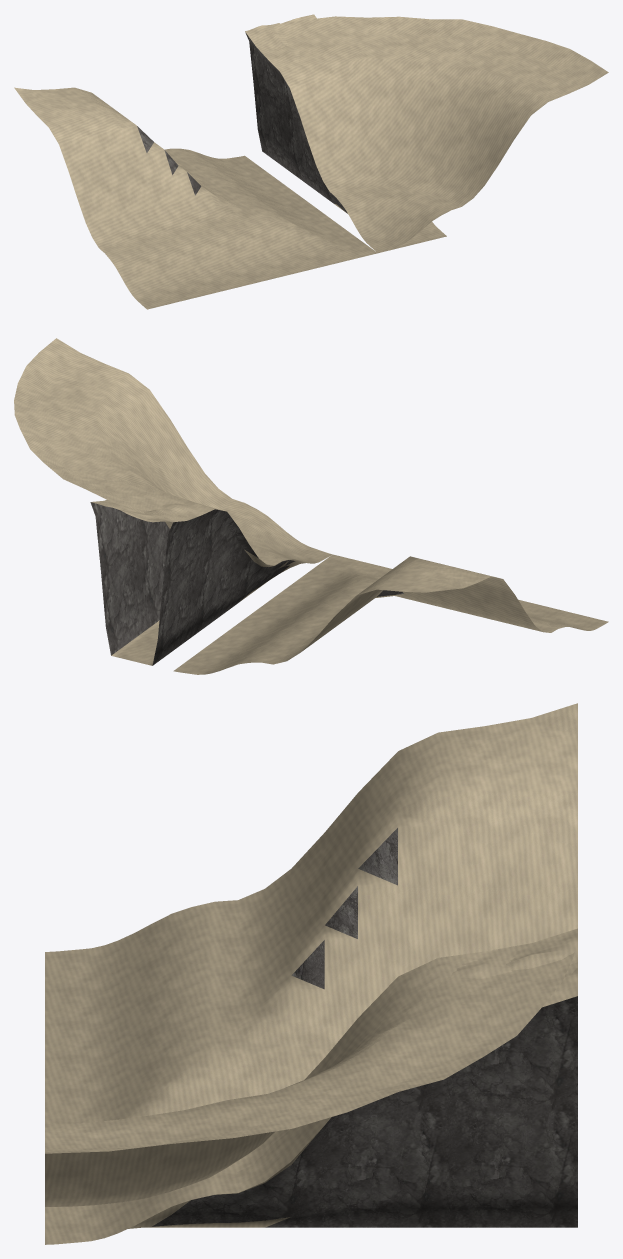
Rendered from bk_desert_autumn.glb.
3 renders of one model, top to bottom at view 1: azimuth 30°, elevation 25°; view 2: azimuth 150°, elevation 25°; view 3: azimuth 270°, elevation 25°, orthographic. The views are drawn at different scales.
Parts seen in each view (by area): view 1: corner_outer, corner_inner, pass12, straight6, straight12_a, straight12_c; view 2: corner_outer, pass12, corner_inner, straight12_c; view 3: corner_inner, pass12, corner_outer, straight12_a, straight12_b, straight6, straight12_c.
Boxes of the visible parts, left/top/right/bottom form: corner_outer: left=245, top=16, right=608, bottom=253; corner_inner: left=14, top=87, right=377, bottom=309; pass12: left=245, top=32, right=446, bottom=252; straight6: left=248, top=23, right=338, bottom=196; straight12_a: left=280, top=14, right=443, bottom=246; straight12_c: left=272, top=18, right=299, bottom=62; corner_outer: left=14, top=338, right=332, bottom=565; pass12: left=90, top=502, right=308, bottom=665; corner_inner: left=173, top=554, right=608, bottom=674; straight12_c: left=98, top=503, right=196, bottom=528; corner_inner: left=45, top=703, right=577, bottom=1123; pass12: left=45, top=996, right=577, bottom=1244; corner_outer: left=45, top=928, right=577, bottom=1206; straight12_a: left=52, top=962, right=577, bottom=1244; straight12_b: left=117, top=958, right=577, bottom=1225; straight6: left=246, top=930, right=577, bottom=1155; straight12_c: left=249, top=956, right=577, bottom=1154.
Size of the model in its own units: 80 by 21.02 by 40.
2 materials, 2 textured.
